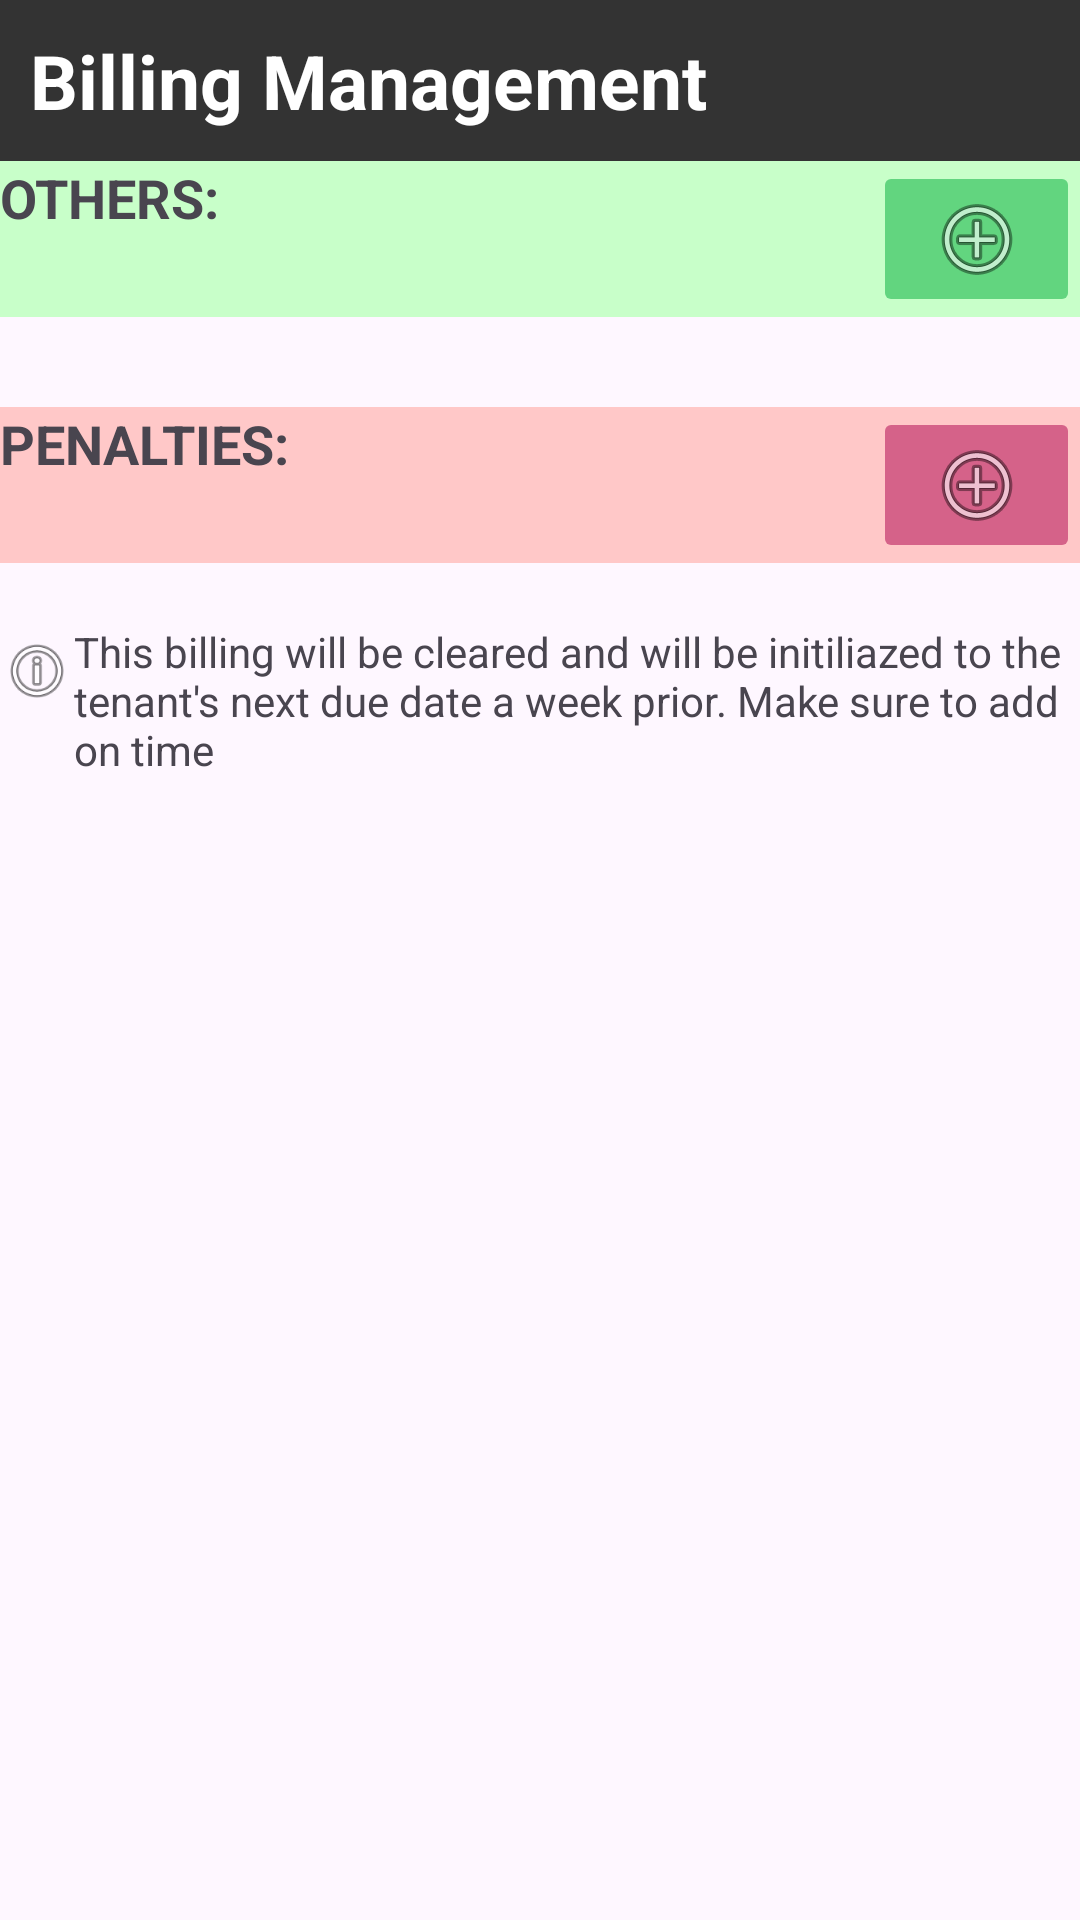

Screen size 1080*1920. Icon name, then its center in pixels as point (x, y):
info details: point (37, 671)
